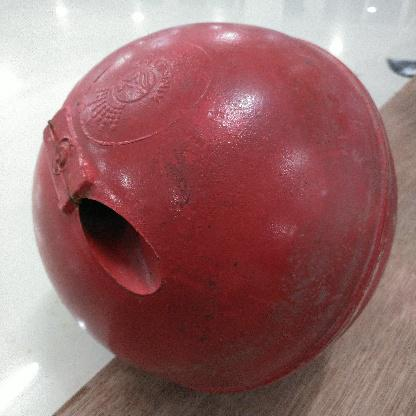red_buoy: (24, 18, 402, 394)
